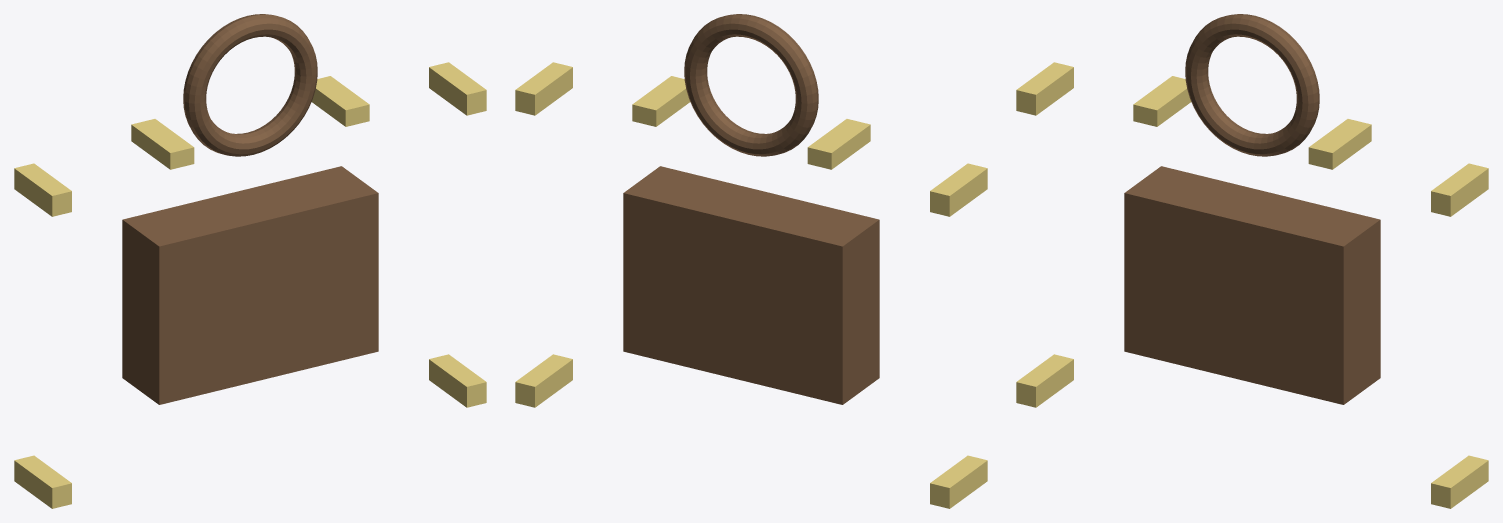
The model's file is briefcase.glb.
3 views of the same model, side by side, from view 1: azimuth 30°, elevation 25°; view 2: azimuth 150°, elevation 25°; view 3: azimuth 330°, elevation 25° (orthographic).
Parts seen in each view (by area): view 1: Briefcase_Body, Briefcase_Handle, Brass_Latch_-0.22, Corner_Guard_1_-1, Corner_Guard_-1_-1, Corner_Guard_1_1, Corner_Guard_-1_1, Brass_Latch_0.22; view 2: Briefcase_Body, Briefcase_Handle, Brass_Latch_-0.22, Corner_Guard_1_-1, Corner_Guard_-1_-1, Corner_Guard_1_1, Corner_Guard_-1_1, Brass_Latch_0.22; view 3: Briefcase_Body, Briefcase_Handle, Brass_Latch_0.22, Corner_Guard_1_-1, Corner_Guard_-1_-1, Corner_Guard_1_1, Corner_Guard_-1_1, Brass_Latch_-0.22.
Boxes of the visible parts, left/top/right/bottom form: Briefcase_Body: left=122, top=166, right=378, bottom=404; Briefcase_Handle: left=183, top=14, right=317, bottom=156; Brass_Latch_-0.22: left=131, top=119, right=194, bottom=169; Corner_Guard_1_-1: left=429, top=354, right=486, bottom=407; Corner_Guard_-1_-1: left=14, top=455, right=71, bottom=508; Corner_Guard_1_1: left=429, top=62, right=486, bottom=115; Corner_Guard_-1_1: left=14, top=163, right=71, bottom=216; Brass_Latch_0.22: left=311, top=76, right=369, bottom=126; Briefcase_Body: left=623, top=166, right=879, bottom=404; Briefcase_Handle: left=684, top=14, right=818, bottom=156; Brass_Latch_-0.22: left=807, top=119, right=870, bottom=169; Corner_Guard_1_-1: left=515, top=354, right=572, bottom=407; Corner_Guard_-1_-1: left=930, top=455, right=987, bottom=508; Corner_Guard_1_1: left=515, top=62, right=572, bottom=115; Corner_Guard_-1_1: left=930, top=163, right=987, bottom=216; Brass_Latch_0.22: left=632, top=76, right=690, bottom=126; Briefcase_Body: left=1124, top=166, right=1380, bottom=404; Briefcase_Handle: left=1185, top=14, right=1319, bottom=156; Brass_Latch_0.22: left=1308, top=119, right=1371, bottom=169; Corner_Guard_1_-1: left=1431, top=455, right=1488, bottom=508; Corner_Guard_-1_-1: left=1016, top=354, right=1073, bottom=407; Corner_Guard_1_1: left=1431, top=163, right=1488, bottom=216; Corner_Guard_-1_1: left=1016, top=62, right=1073, bottom=115; Brass_Latch_-0.22: left=1133, top=76, right=1191, bottom=126.
Bounding box in the file's own units: 1.09 × 1.02 × 0.17.
